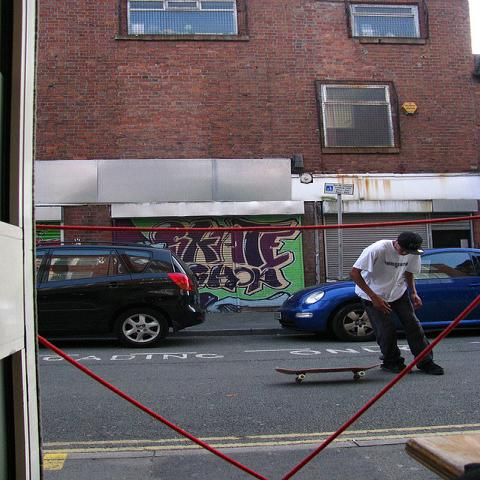car: (36, 241, 217, 348), (274, 251, 479, 343)
